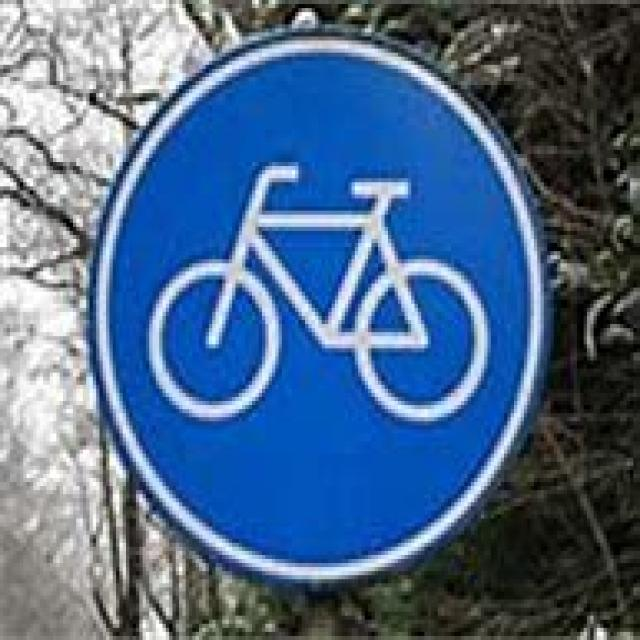COMPULSARY_CYCLE_TRACK: (83, 20, 547, 588)
